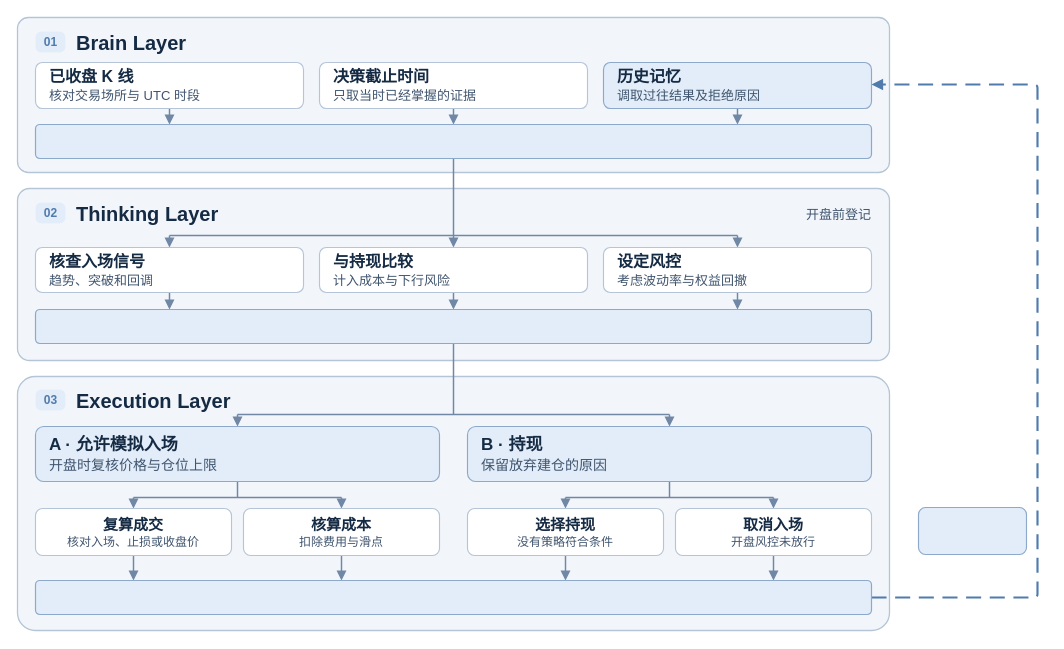
This 1064x649 diagram has some shape labels left out. The shapes that lost their labels are listed below. From the top down, each one's box as (x1, y1, x2, y2) in pixels, then its label:
(34, 123, 872, 159): 冻结证据 · 交易场所、截止时间与内容哈希
(34, 308, 872, 344): 已登记的决策 · 策略、仓位上限和止损
(917, 506, 1027, 555): 写回记忆 供后续决策使用
(34, 579, 872, 615): 已核验的结果 · 对照事先登记的基准，保存回执
